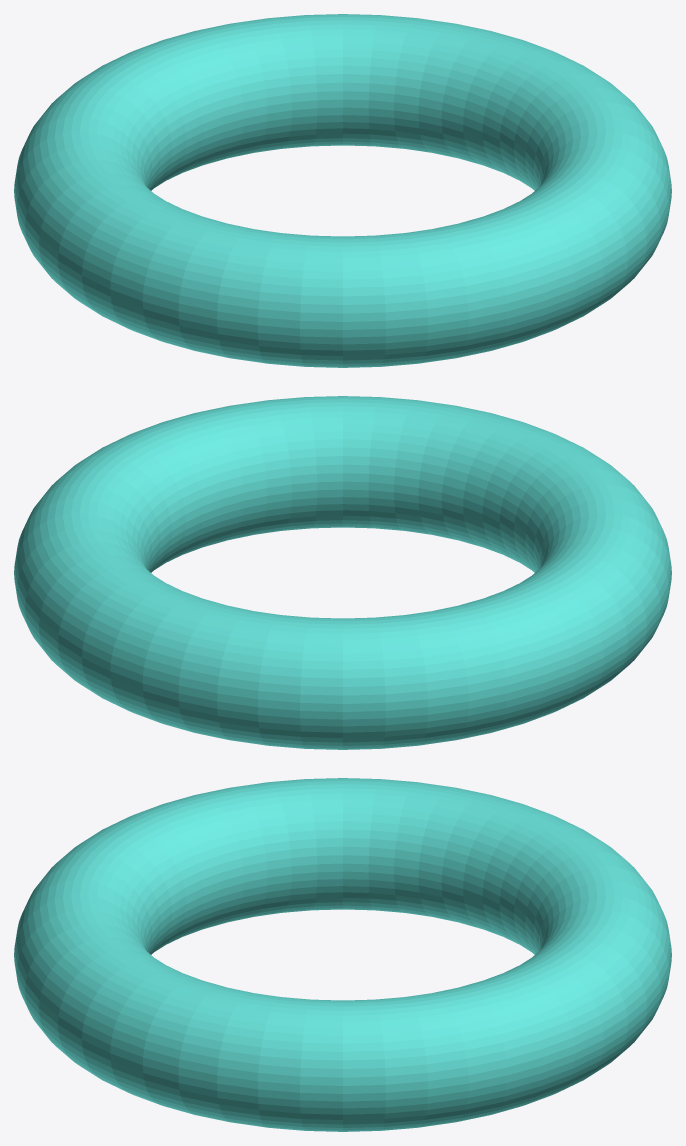
Rendered from RING .fbx.
3 views of the same model, one above another, from view 1: azimuth 30°, elevation 25°; view 2: azimuth 150°, elevation 25°; view 3: azimuth 270°, elevation 25° (orthographic).
Parts seen in each view (by area): view 1: Torus; view 2: Torus; view 3: Torus.
Boxes of the visible parts, <box> form: Torus: <box>14,14,671,367</box>; Torus: <box>14,396,671,749</box>; Torus: <box>14,778,671,1131</box>.
Bounding box in the file's own units: 250 × 50 × 250.
